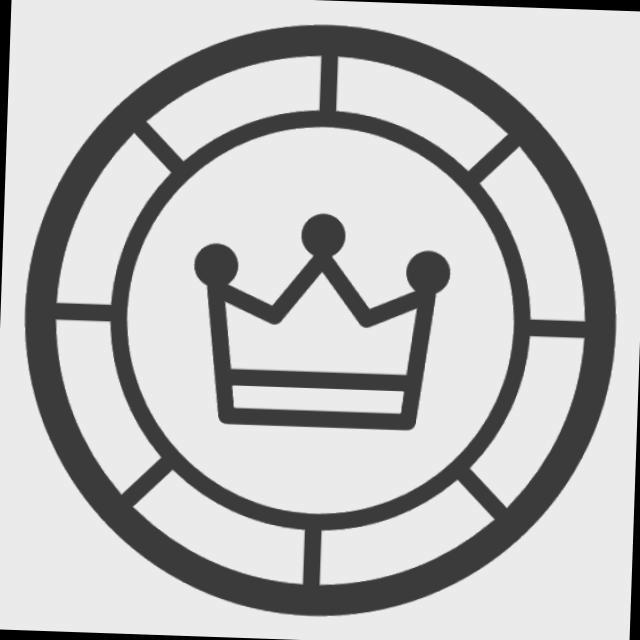coin: (6, 5, 635, 640)
